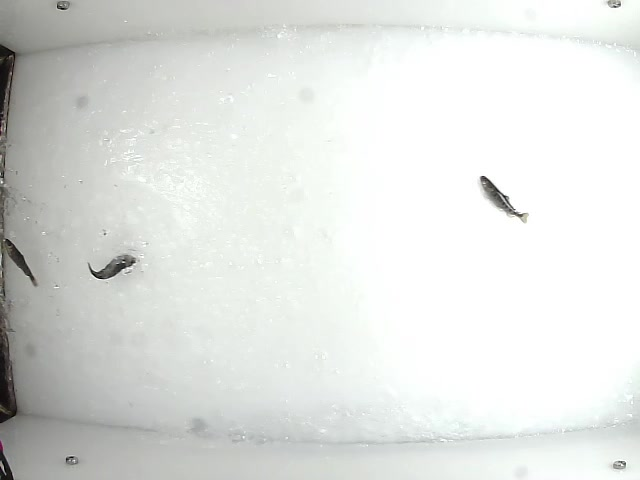fish: (479, 174, 530, 226), (3, 235, 38, 289), (85, 252, 140, 281)
